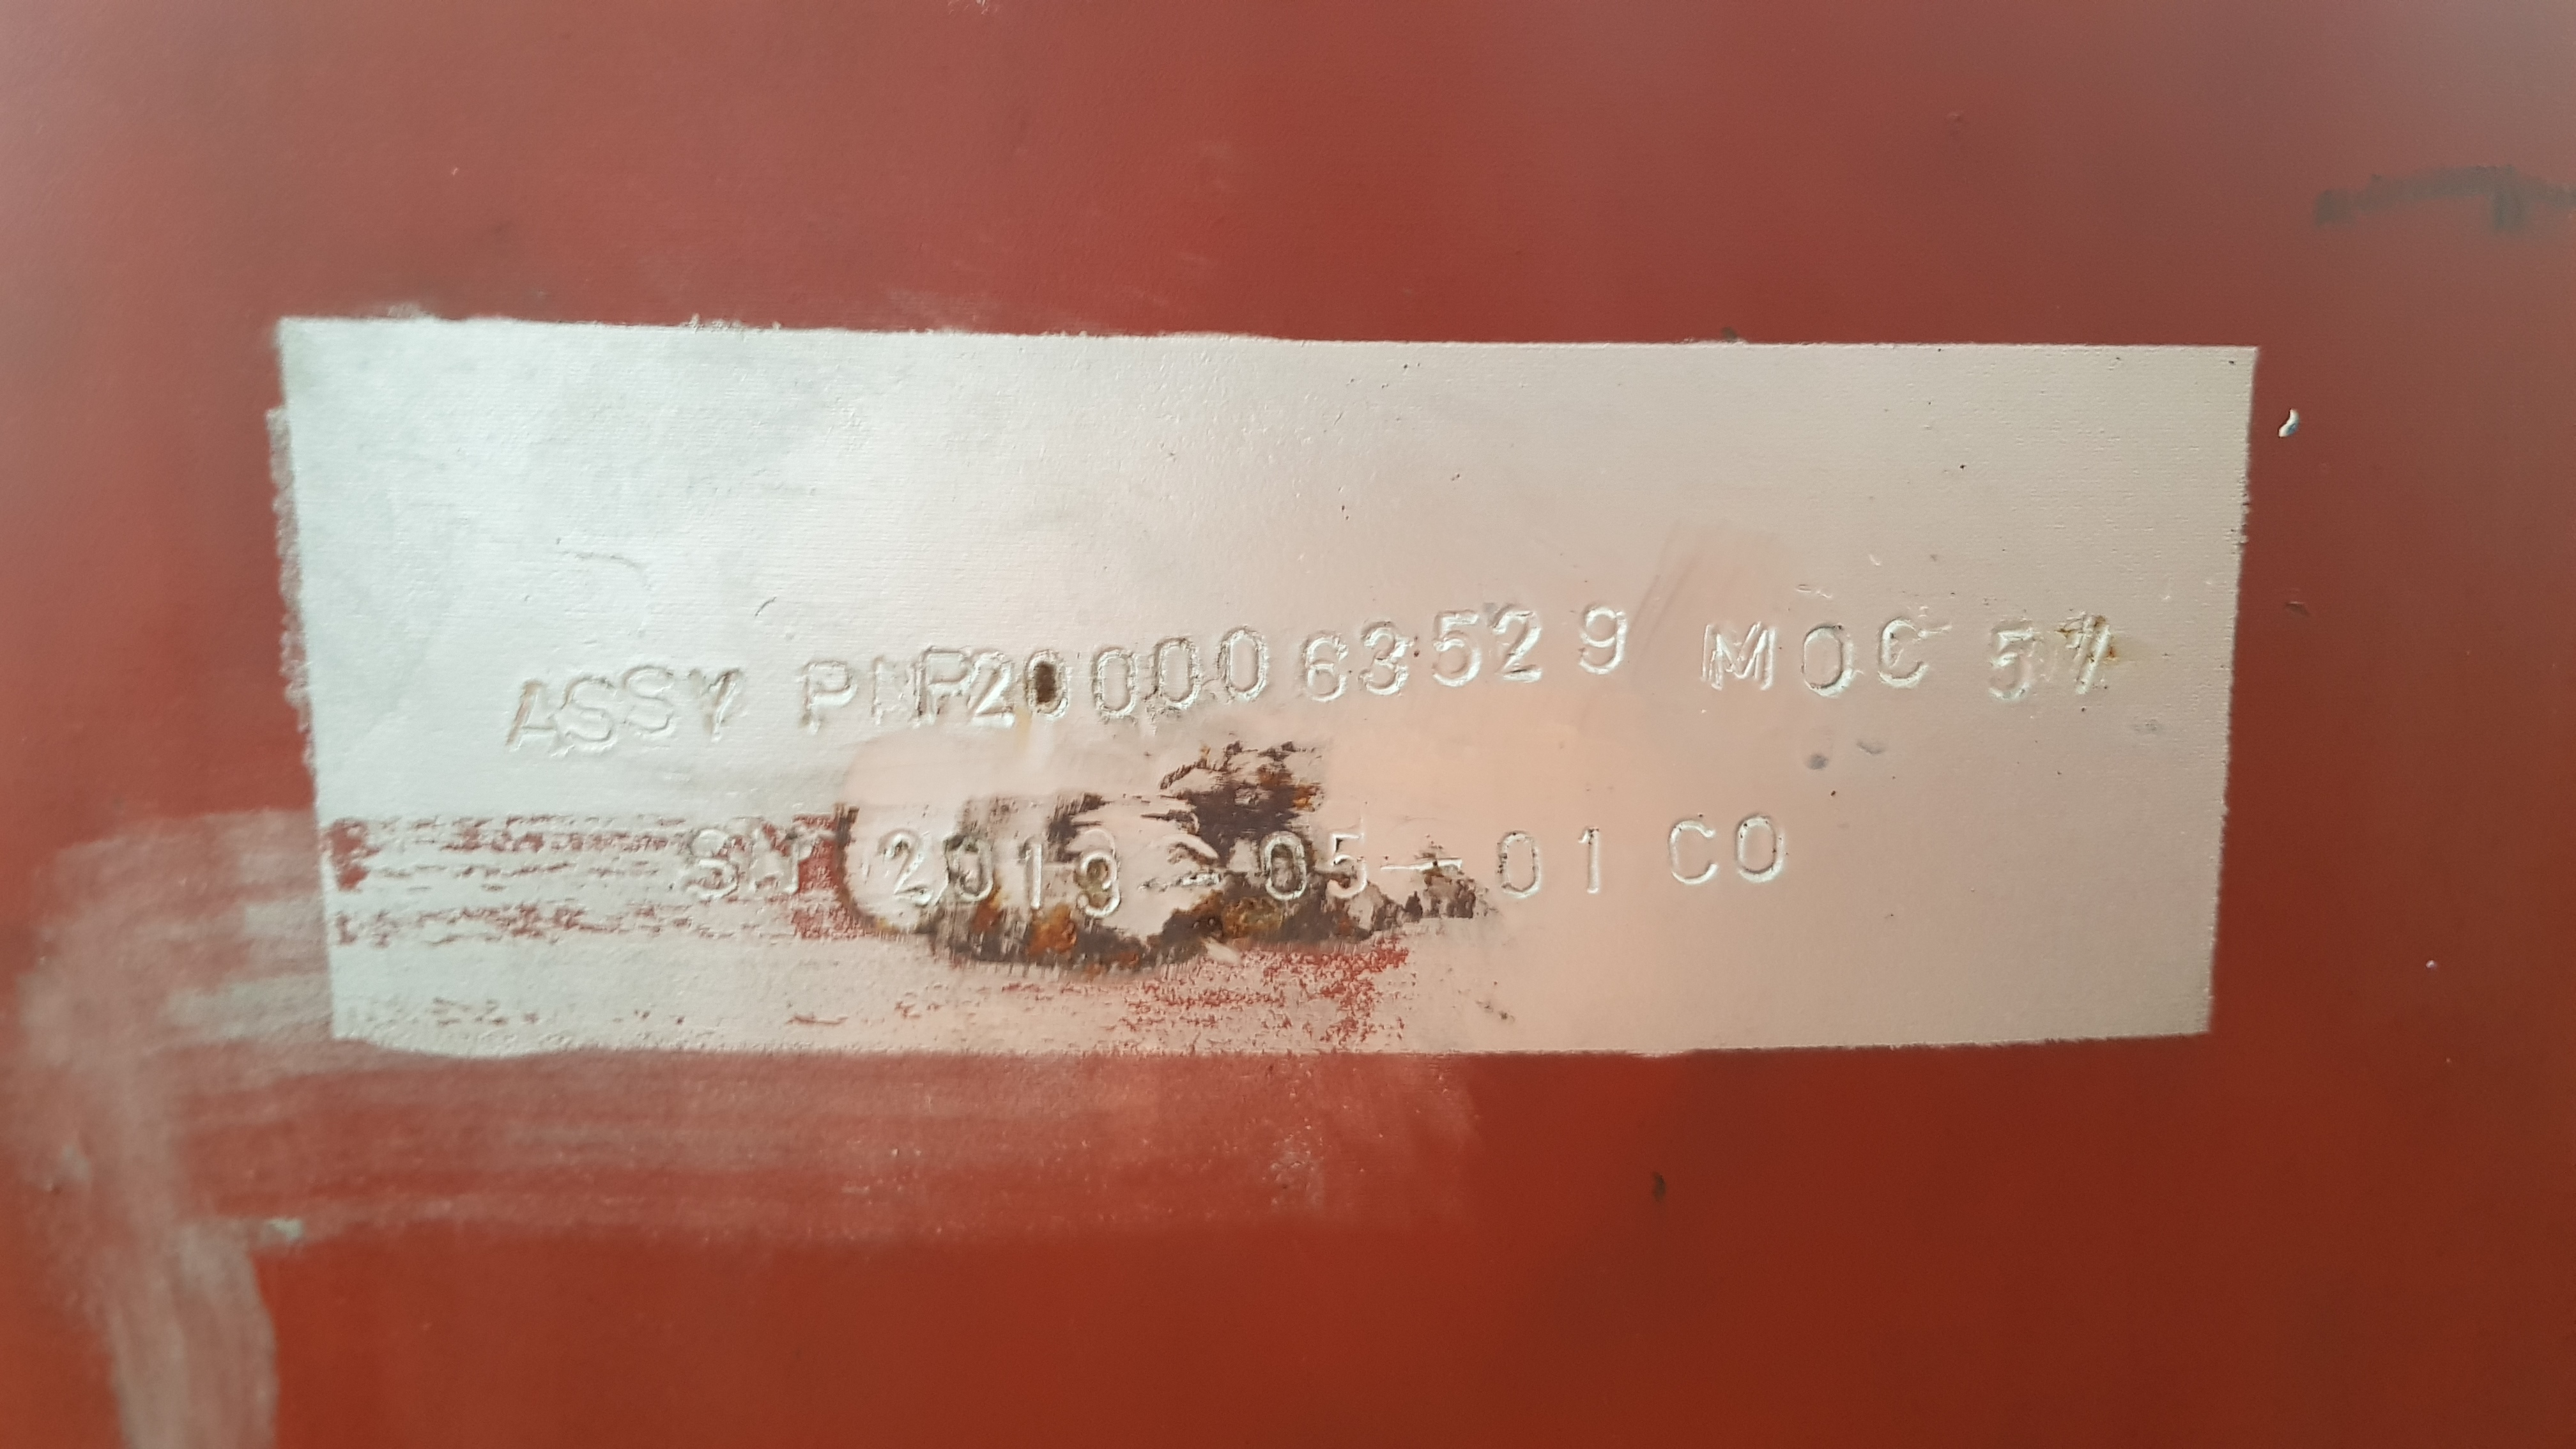character: (1982, 614, 2054, 708), (1697, 617, 1783, 692), (2059, 610, 2121, 711), (1796, 619, 1865, 708), (1732, 803, 1796, 899), (1870, 607, 1937, 697), (676, 823, 747, 906), (1488, 596, 1548, 692), (685, 660, 750, 747), (557, 669, 625, 752), (1658, 810, 1727, 890), (798, 655, 858, 745), (617, 658, 679, 745), (495, 672, 563, 752), (1428, 603, 1488, 692), (1575, 596, 1635, 685), (909, 642, 971, 727), (962, 644, 1024, 729), (1491, 824, 1553, 909), (876, 823, 936, 906), (1295, 628, 1357, 708), (1254, 828, 1316, 906), (1214, 623, 1274, 701), (1361, 617, 1415, 701), (1065, 847, 1132, 915), (1146, 628, 1203, 708), (1566, 817, 1617, 902), (945, 828, 1001, 904), (1323, 826, 1375, 906), (1024, 648, 1079, 722), (1090, 644, 1139, 718), (1010, 828, 1051, 915), (1173, 860, 1228, 904)
